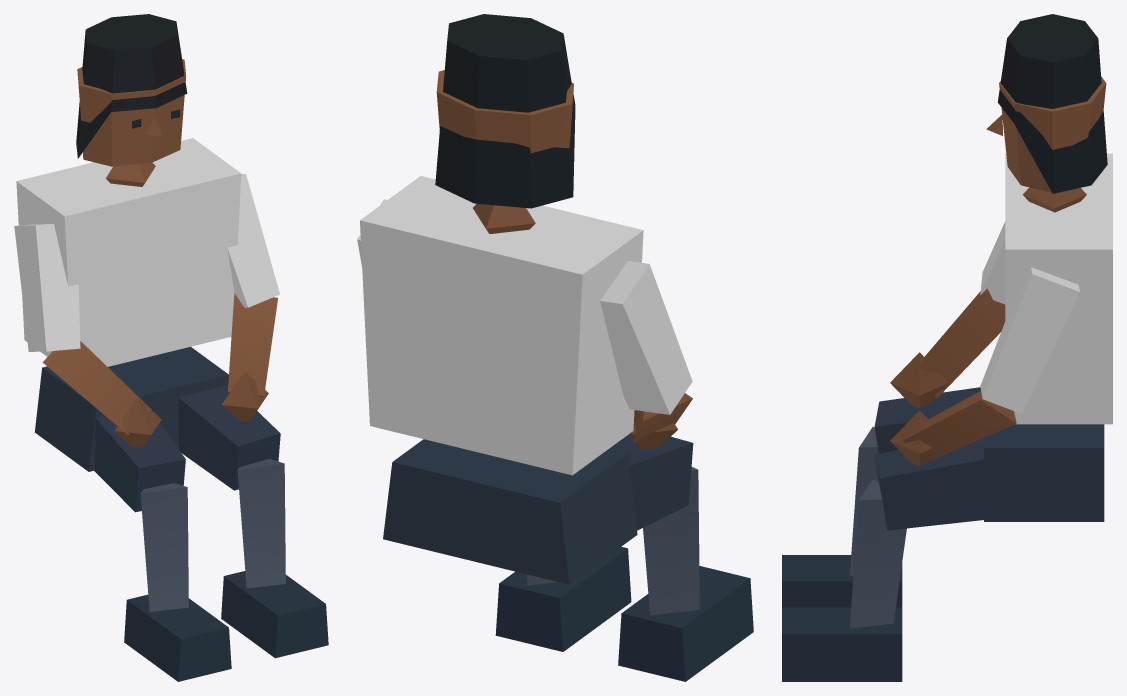
Rendered from fan-02.glb.
3 renders of one model, left to right at view 1: azimuth 30°, elevation 25°; view 2: azimuth 150°, elevation 25°; view 3: azimuth 270°, elevation 25°, orthographic. The views are drawn at different scales.
Parts seen in each view (by area): view 1: fan-02; view 2: fan-02; view 3: fan-02.
Part boxes in pixels (x1,y1,x2,y2): fan-02: [14, 14, 328, 681]; fan-02: [357, 14, 753, 681]; fan-02: [782, 14, 1112, 681].
Bounding box in the file's own units: 0.7053 × 1.55 × 0.77.
